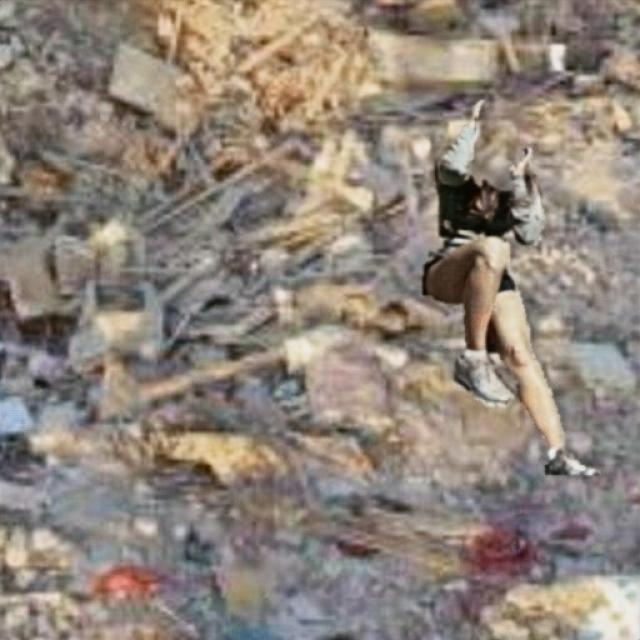Person in Rubble: (422, 100, 602, 474)
